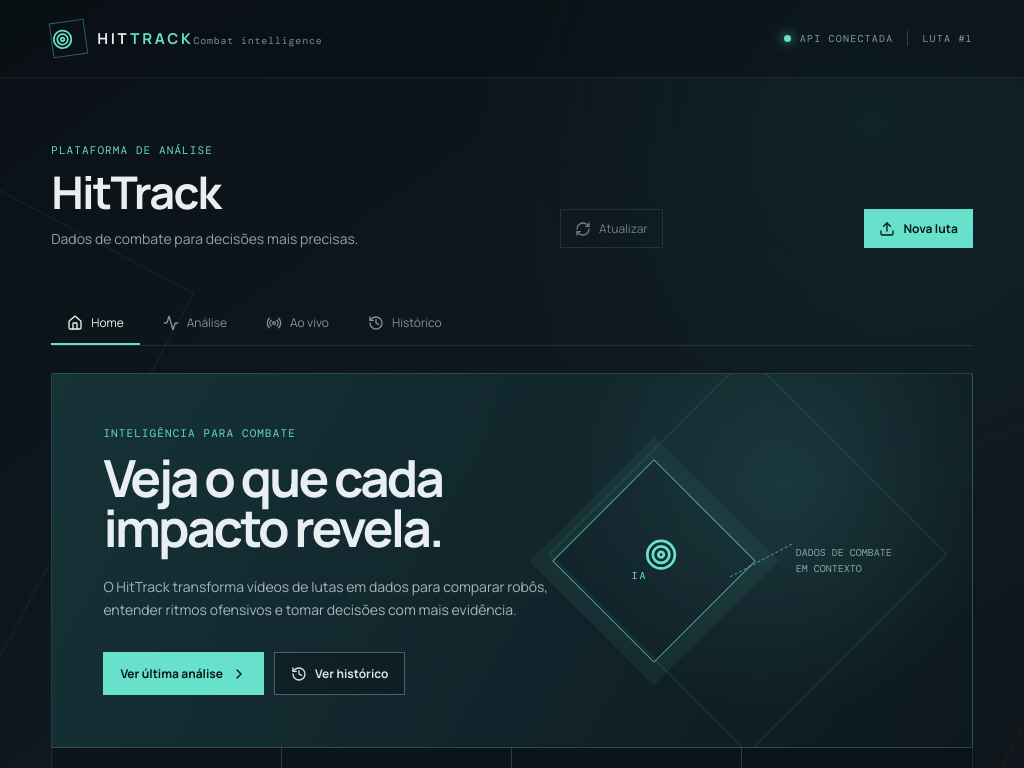
Test: HitTrack dashboard › renders fight metrics in the analysis view
Click the button "Análise".
click(195, 324)  # box [147,302,243,345]
(page scrolled)
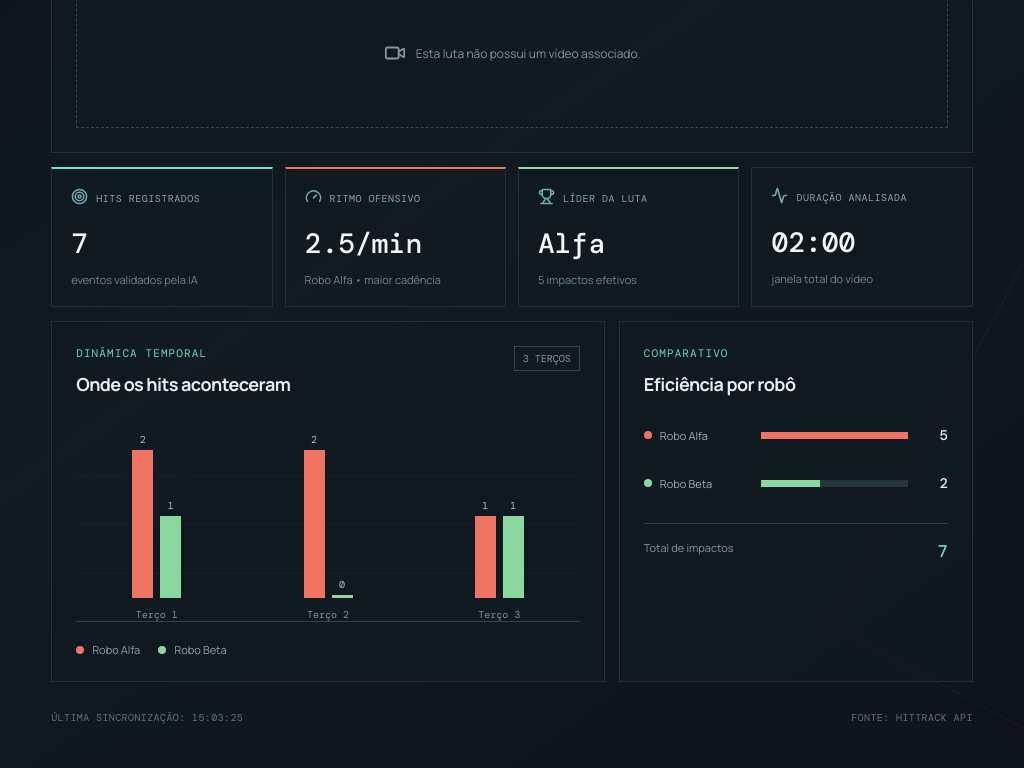
Expected: the text "Hits registrados" is shown, [96,192,200,205]
Expected: the heading "Eficiência por robô" is shown, [644,372,796,396]
Expected: the heading "Onde os hits aconteceram" is shown, [76,372,290,396]
